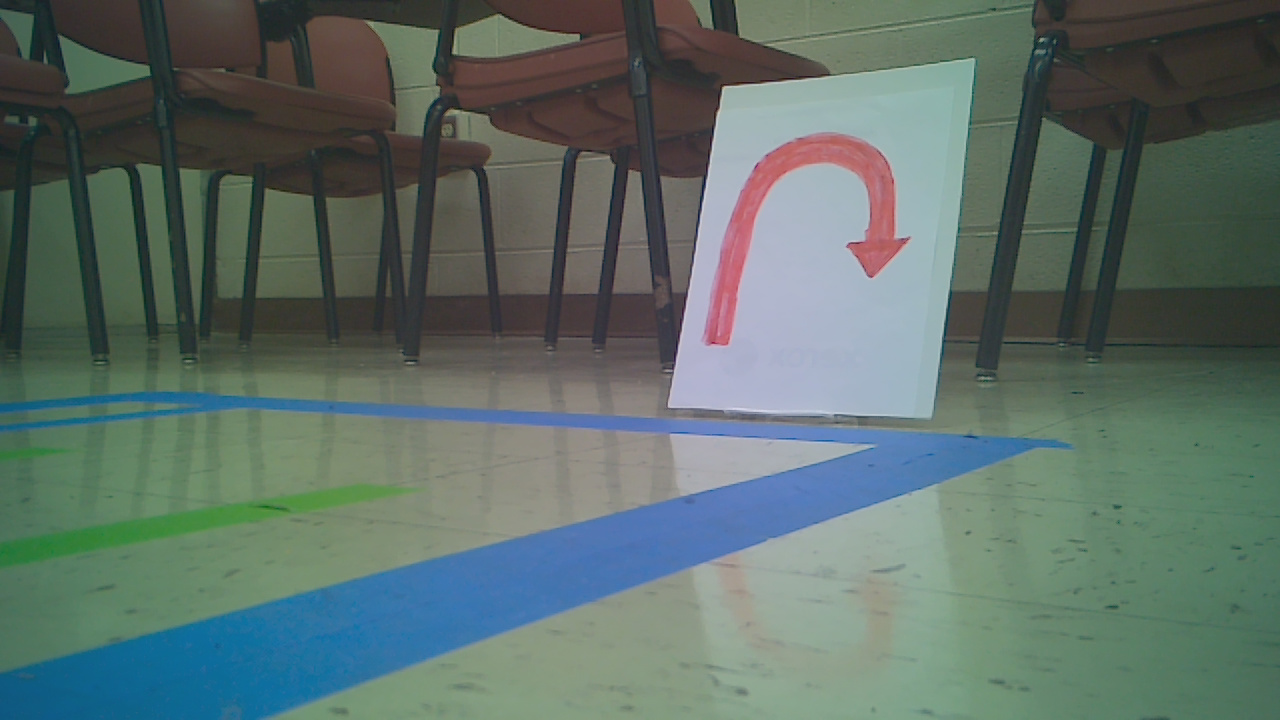greenline: (6, 477, 407, 569)
uturn: (704, 127, 913, 343)
